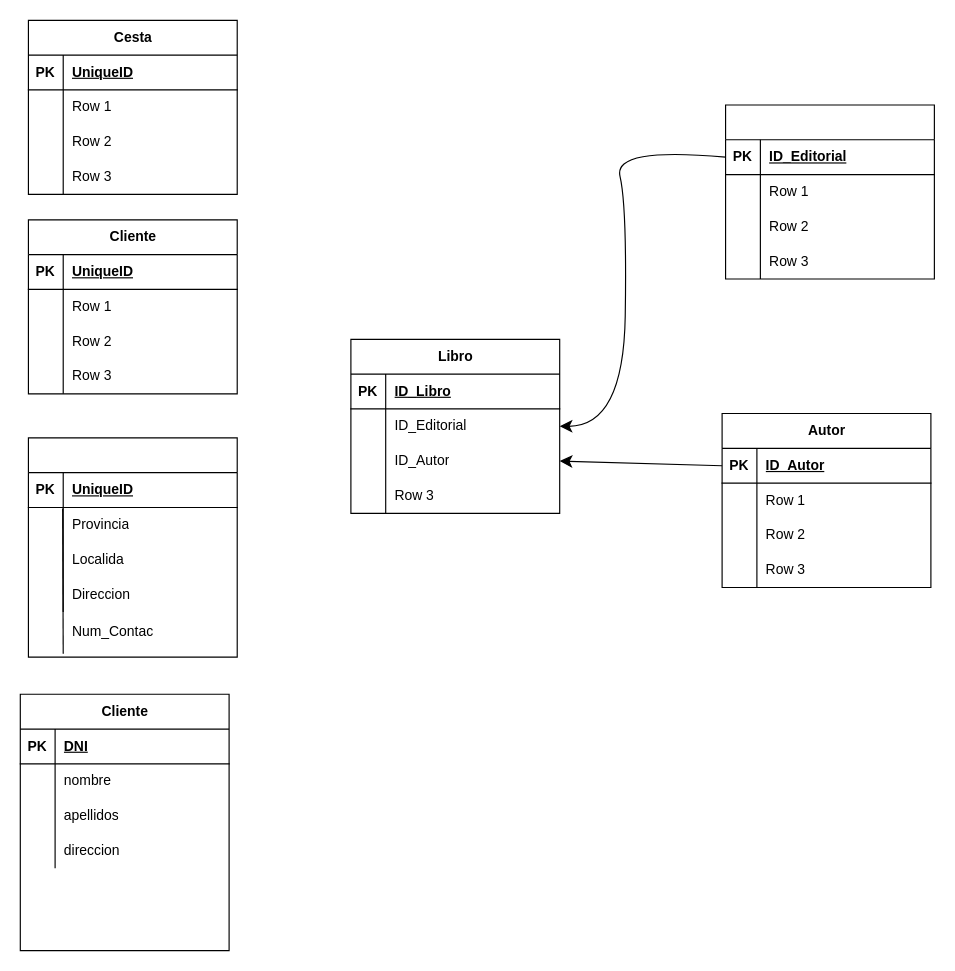
This 955x971 diagram has some shape labels left out. The box of each missing label's shape, as (x1, y1, x2, y2) in pixels:
Almacen: (27, 437, 237, 657)
Table: (724, 104, 934, 279)
